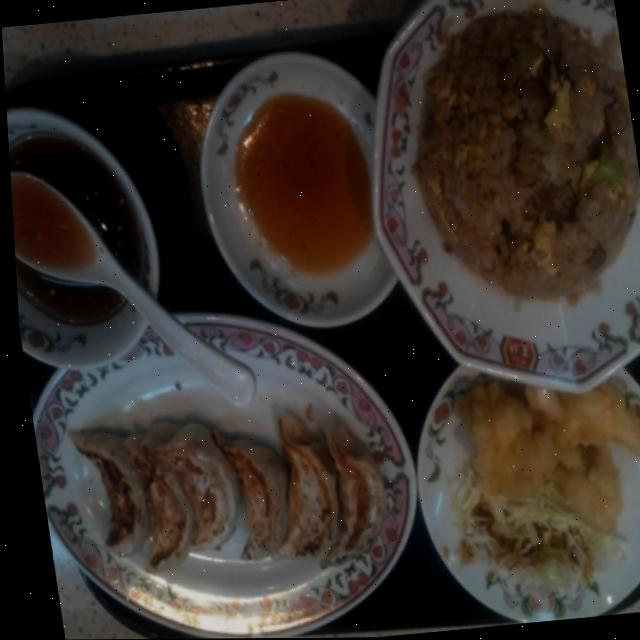带馅早点: (14, 296, 433, 640)
汤锅炖物: (4, 90, 186, 384)
米饭主食: (349, 0, 640, 413)
鸡肉料理 含炸鸡: (396, 354, 640, 632)
